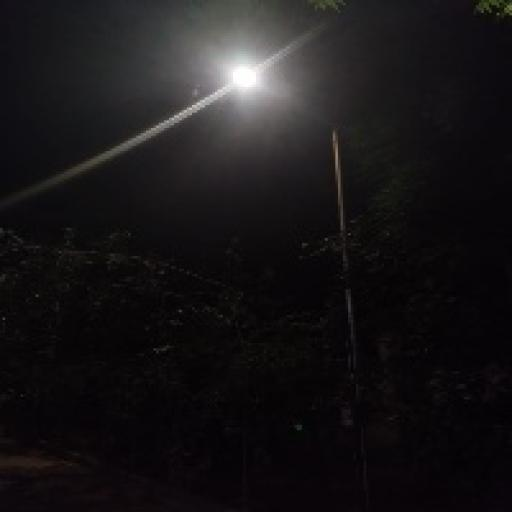Working: (220, 62, 266, 92)
